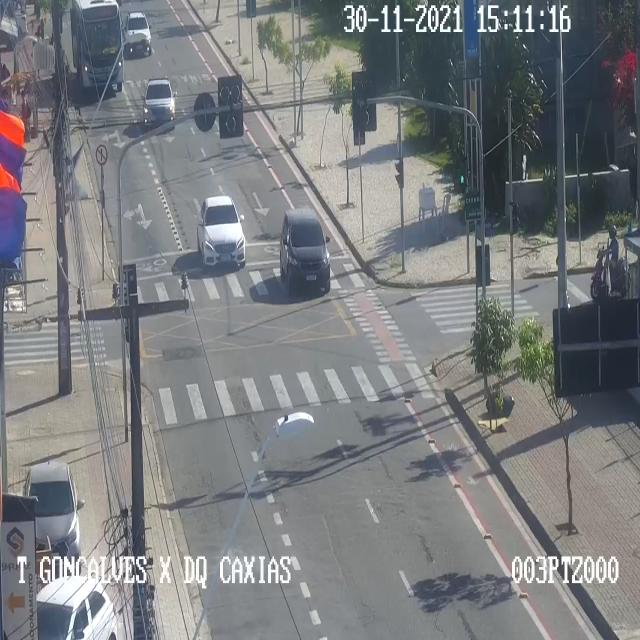Bus: (72, 1, 122, 91)
Car: (24, 462, 80, 572), (36, 575, 116, 639), (280, 209, 330, 291), (197, 194, 245, 266), (143, 77, 175, 128), (121, 12, 151, 54)
Motorcycle: (590, 224, 629, 299)
